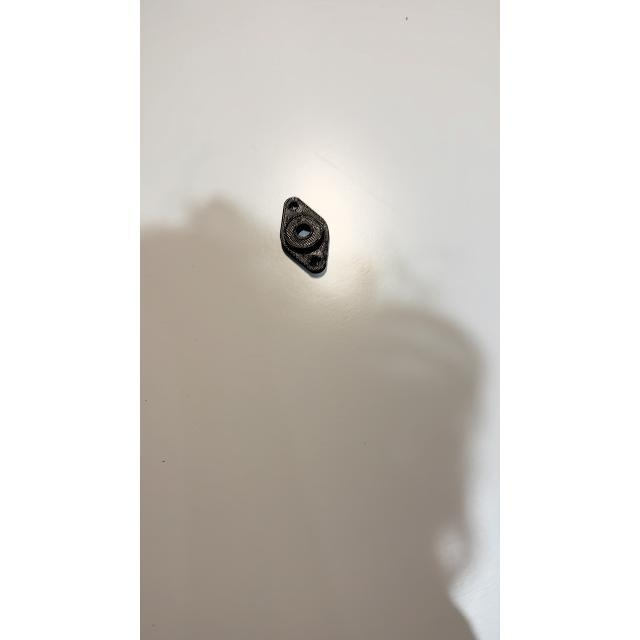Pieza2: (268, 185, 338, 282)
